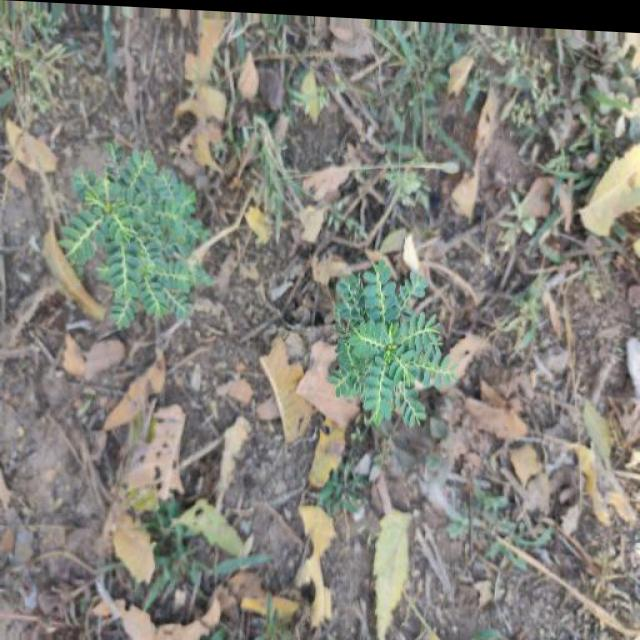weed: (46, 132, 224, 317), (309, 257, 480, 435)
